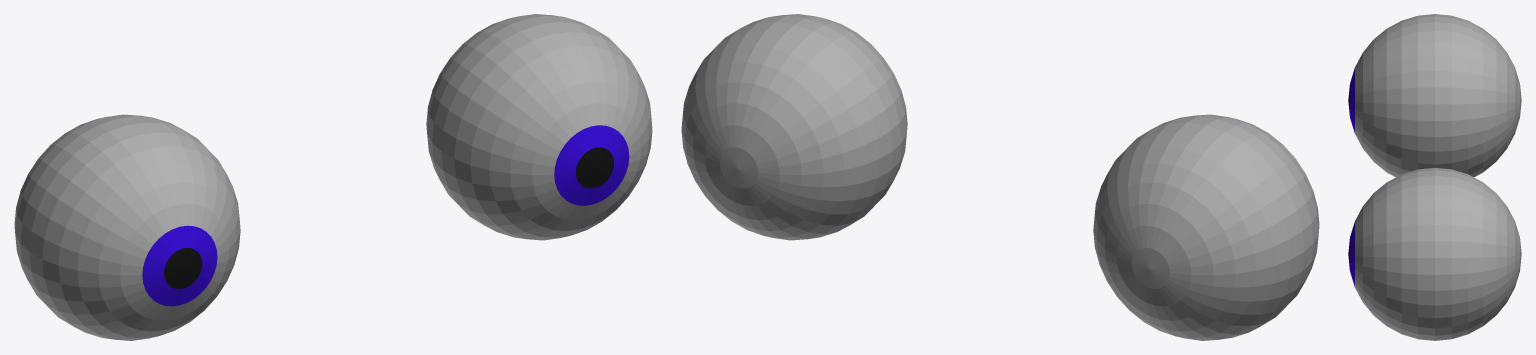
The model's file is Oeil.fbx.
The picture shows the model from 3 angles, left to right: view 1: azimuth 30°, elevation 25°; view 2: azimuth 150°, elevation 25°; view 3: azimuth 270°, elevation 25°; orthographic projection. The views are drawn at different scales.
Parts seen in each view (by area): view 1: OeilD, OeilG; view 2: OeilD, OeilG; view 3: OeilG, OeilD.
Part boxes in pixels (x1,y1,x2,y2): OeilD: (14,114,240,340); OeilG: (426,14,652,240); OeilD: (1093,114,1319,340); OeilG: (681,14,907,240); OeilG: (1348,167,1521,340); OeilD: (1348,14,1521,177).
Size of the model in its own units: 177 by 57.1 by 57.1.
